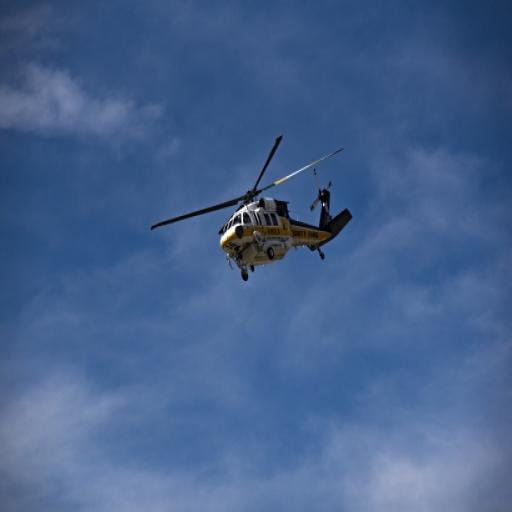helicopter: (154, 136, 352, 288)
